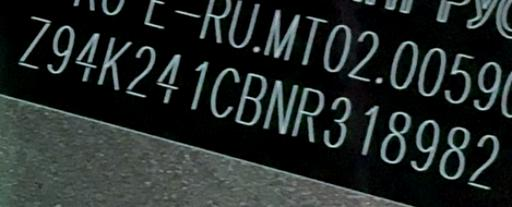letter: (14, 12, 54, 72), (434, 125, 472, 179), (290, 87, 326, 142), (42, 20, 78, 75), (121, 43, 157, 98), (263, 79, 299, 134), (376, 111, 412, 164), (98, 36, 132, 90), (407, 118, 441, 171), (468, 134, 500, 189), (234, 71, 266, 124), (210, 66, 240, 117), (154, 53, 180, 108), (323, 96, 351, 147), (74, 30, 100, 84), (354, 104, 380, 157), (182, 58, 208, 111)
